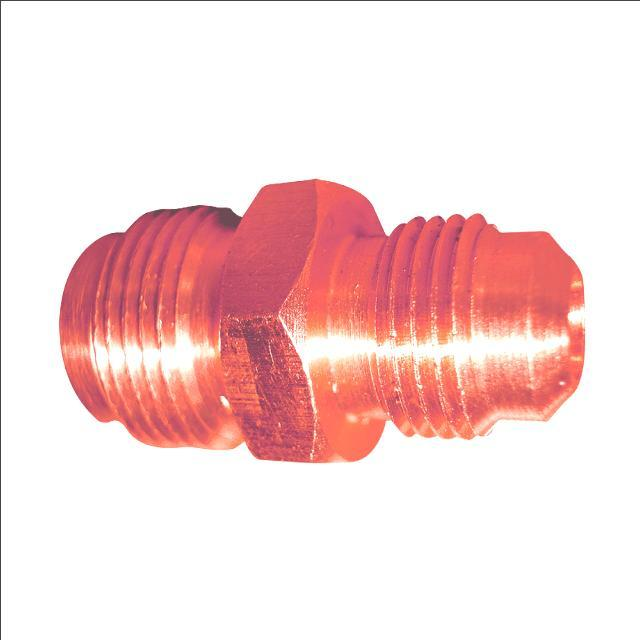Dry Waste: (28, 94, 624, 506)
